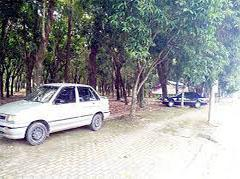car: (0, 74, 127, 144), (150, 86, 210, 114)
